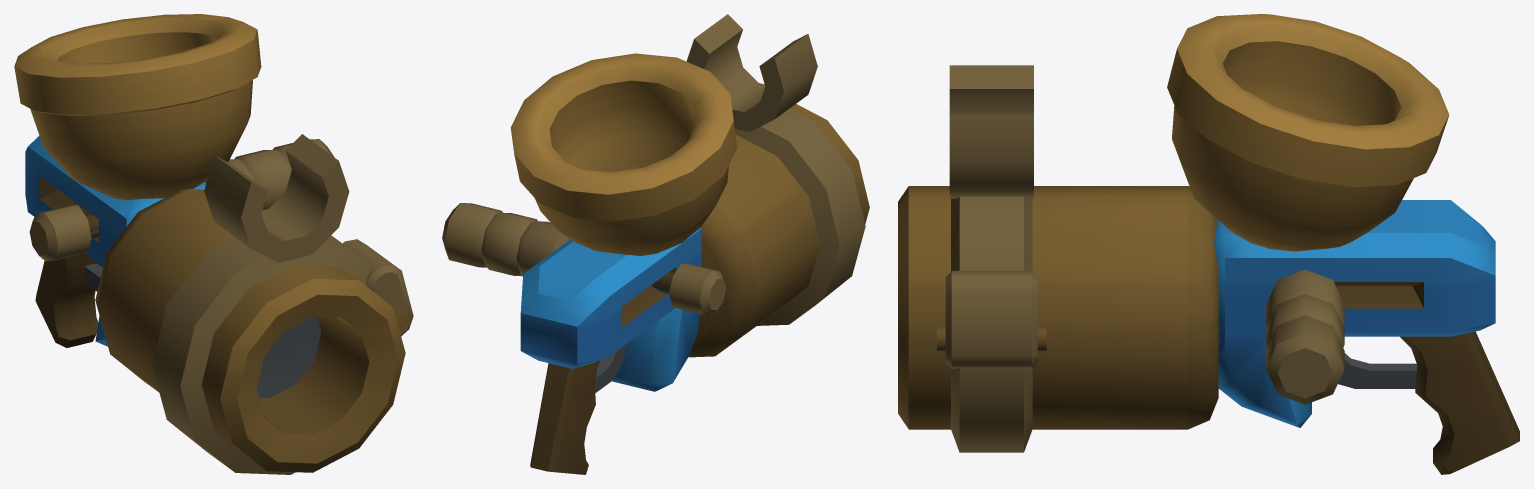
The model's file is kk_holiday_gland_canon.glb.
3 renders of one model, left to right at view 1: azimuth 30°, elevation 25°; view 2: azimuth 150°, elevation 25°; view 3: azimuth 270°, elevation 25°, orthographic. The views are drawn at different scales.
Parts seen in each view (by area): view 1: snowball_cannon; view 2: snowball_cannon; view 3: snowball_cannon.
Part boxes in pixels (x1,y1,x2,y2): snowball_cannon: (14,14,413,474); snowball_cannon: (442,14,869,474); snowball_cannon: (898,14,1519,474).
Size of the model in its own units: 0.6016 by 0.714 by 0.9509.
Materials: 1 (1 with a texture image).
